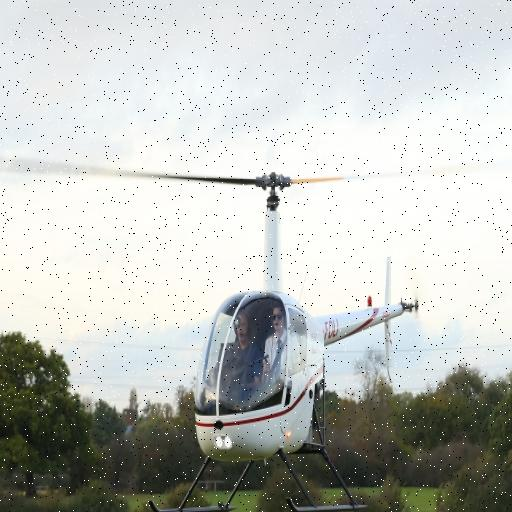helicopter: (1, 155, 456, 512)
